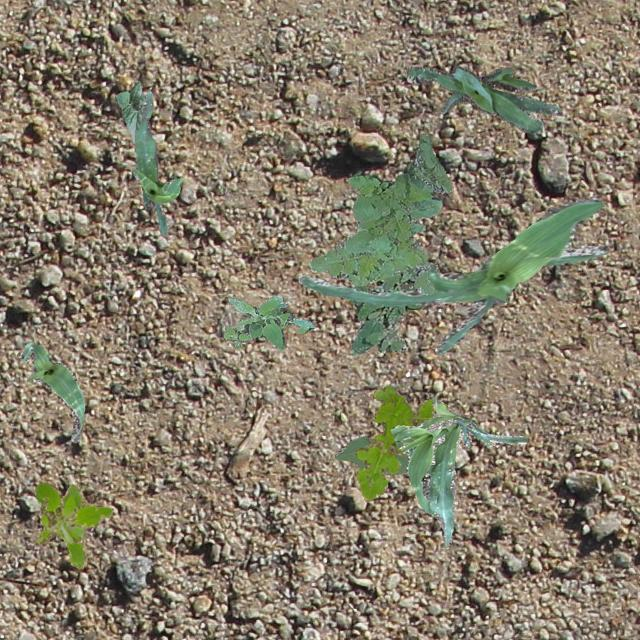crop: (298, 195, 608, 354), (390, 396, 526, 548), (406, 66, 560, 132), (130, 90, 180, 234), (18, 341, 84, 442), (333, 436, 408, 474), (114, 80, 144, 142)
weed: (310, 132, 450, 294), (354, 384, 434, 500), (350, 262, 438, 352), (34, 480, 112, 568), (222, 294, 314, 350)
